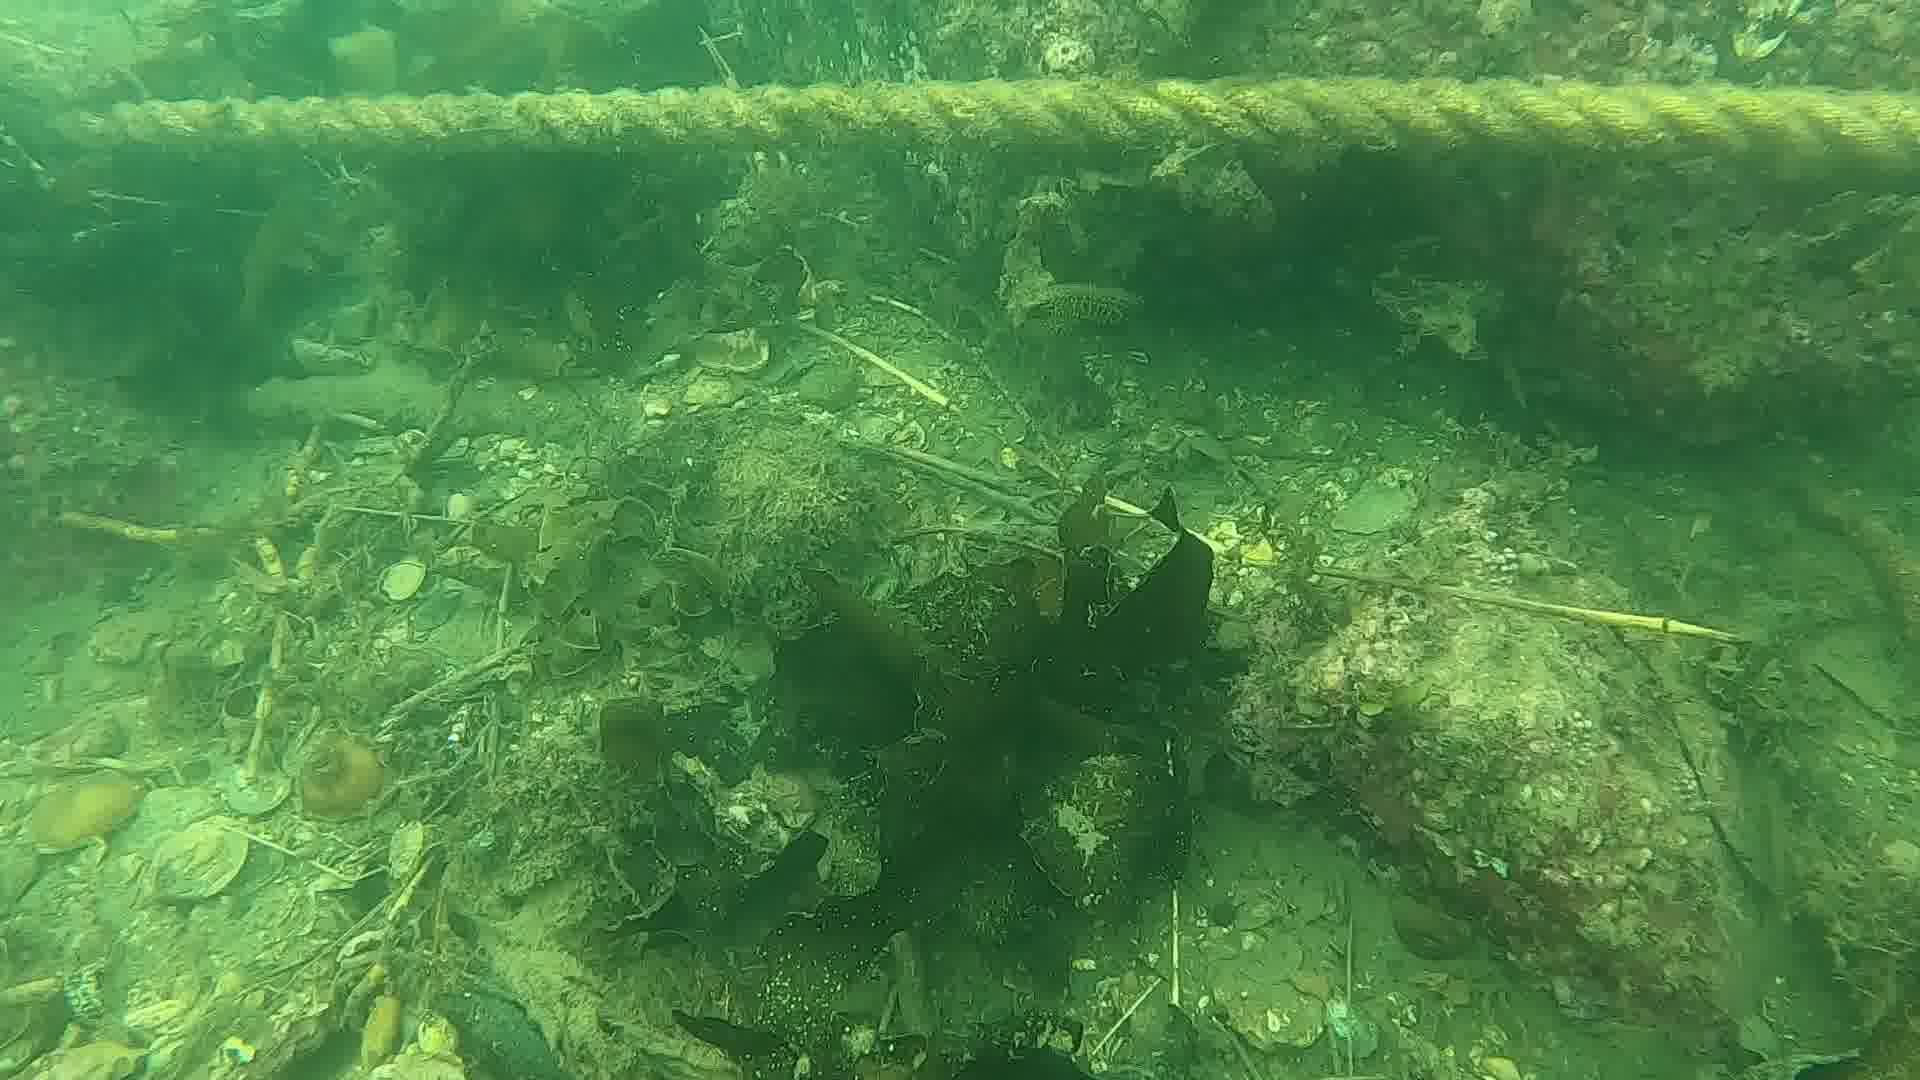rope: (0, 73, 1920, 186)
